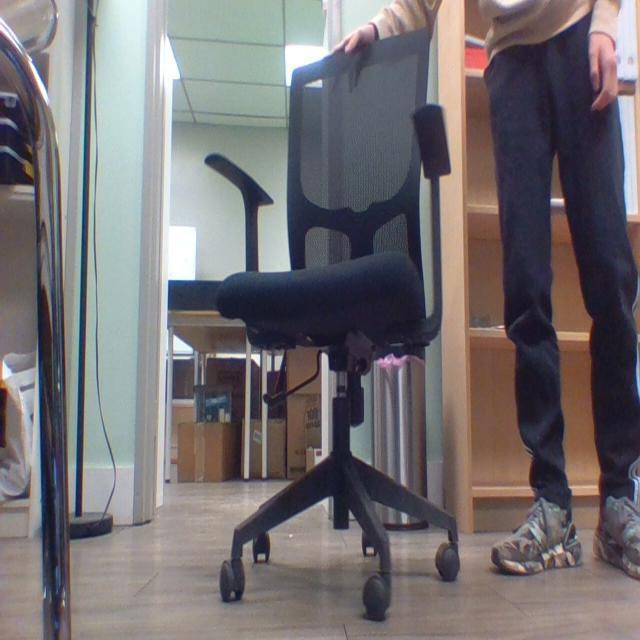chair: (197, 32, 466, 616)
